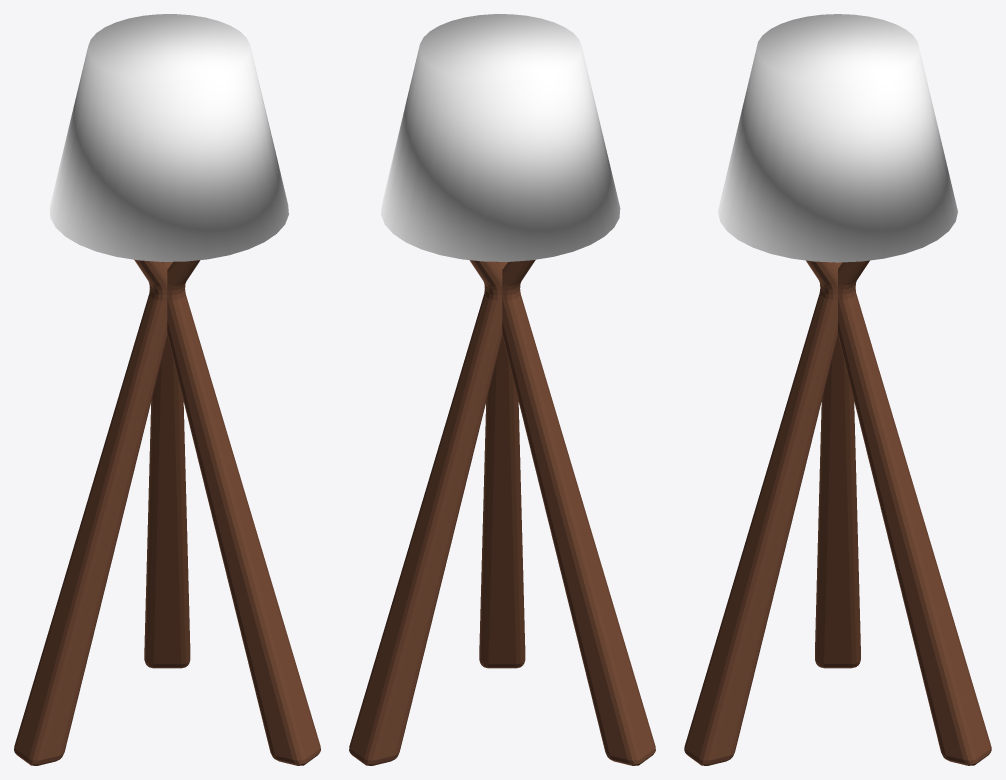
The model's file is Steh_Lampe_3Beine.fbx.
The picture shows the model from 3 angles, left to right: view 1: azimuth 30°, elevation 25°; view 2: azimuth 150°, elevation 25°; view 3: azimuth 270°, elevation 25°; orthographic projection.
Parts seen in each view (by area): view 1: LampeDreibein; view 2: LampeDreibein; view 3: LampeDreibein.
Boxes of the visible parts, left/top/right/bottom form: LampeDreibein: left=14, top=14, right=320, bottom=765; LampeDreibein: left=349, top=14, right=655, bottom=765; LampeDreibein: left=684, top=14, right=991, bottom=765.
Bounding box in the file's own units: 62.84 × 162 × 66.47.
